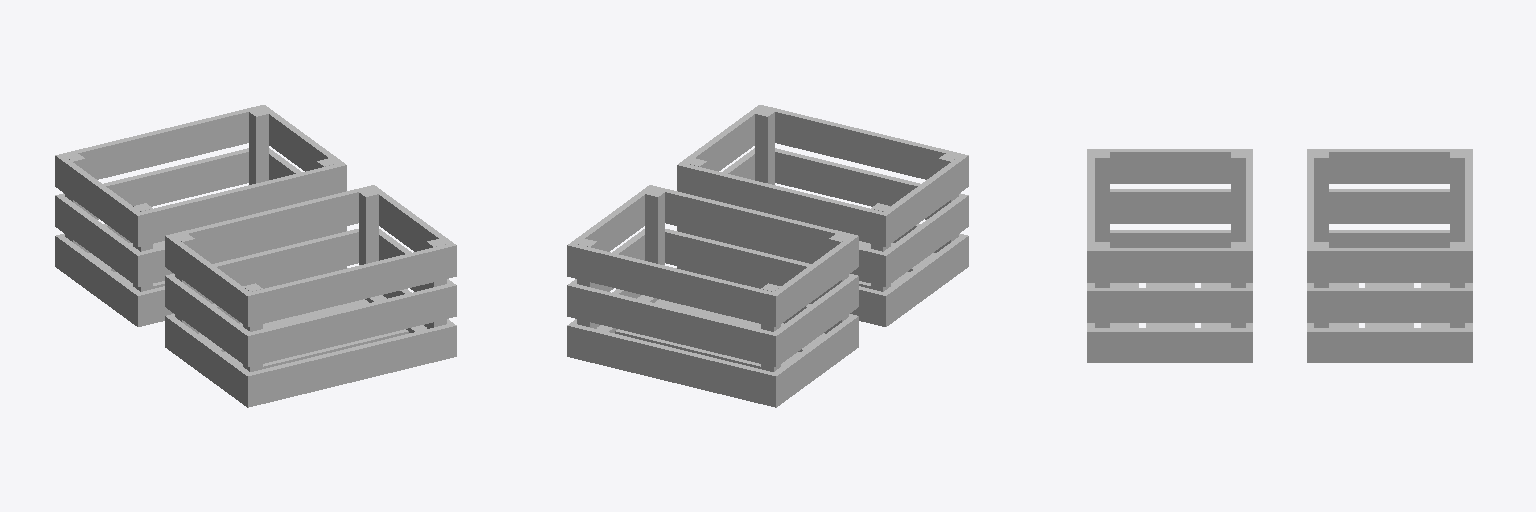
Rendered from cajas.obj.
3 renders of one model, left to right at view 1: azimuth 30°, elevation 25°; view 2: azimuth 150°, elevation 25°; view 3: azimuth 270°, elevation 25°, orthographic.
Parts seen in each view (by area): view 1: Куб.21, Куб.001; view 2: Куб.001, Куб.21; view 3: Куб.21, Куб.001.
Part boxes in pixels (x1,y1,x2,y2): Куб.21: (165,185,456,407); Куб.001: (55,105,346,326); Куб.001: (567,185,858,407); Куб.21: (677,105,968,326); Куб.21: (1087,149,1252,362); Куб.001: (1307,149,1472,362).
Bounding box in the file's own units: 3.25 × 1.66 × 5.18.